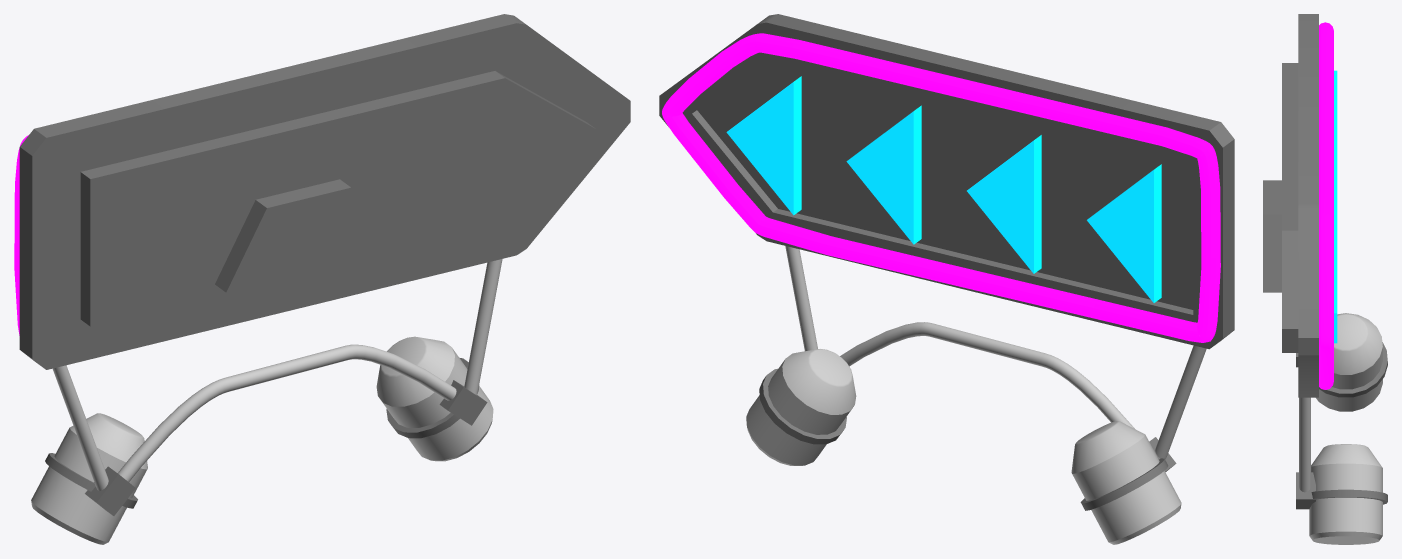
The model's file is NeonSignReversed.fbx.
The picture shows the model from 3 angles, left to right: view 1: azimuth 30°, elevation 25°; view 2: azimuth 150°, elevation 25°; view 3: azimuth 270°, elevation 25°; orthographic projection. The views are drawn at different scales.
Parts seen in each view (by area): view 1: SignReversed; view 2: SignReversed; view 3: SignReversed.
Part boxes in pixels (<box>): SignReversed: <box>14,14,630,544</box>; SignReversed: <box>659,14,1234,544</box>; SignReversed: <box>1263,14,1387,544</box>.
Size of the model in its own units: 631 by 444 by 137.
